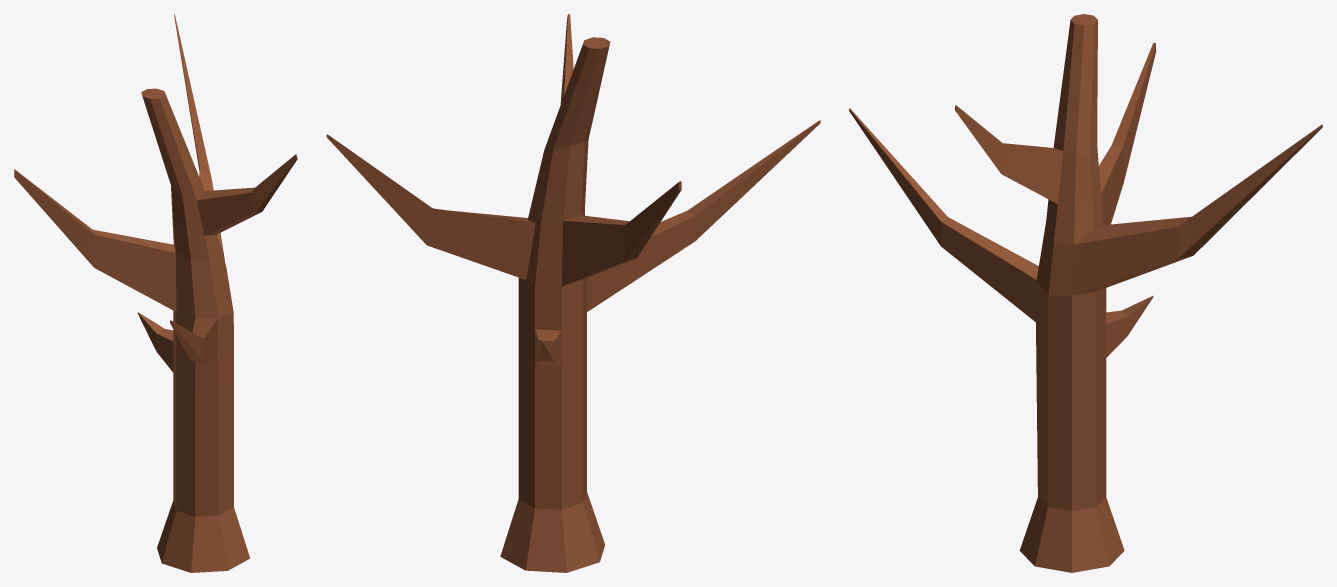
File: Tree2.fbx
3 views of the same model, side by side, from view 1: azimuth 30°, elevation 25°; view 2: azimuth 150°, elevation 25°; view 3: azimuth 270°, elevation 25° (orthographic). The views are drawn at different scales.
Parts seen in each view (by area): view 1: Tree2; view 2: Tree2; view 3: Tree2.
Part boxes in pixels (bbox=[...]): Tree2: bbox=[14, 14, 297, 572]; Tree2: bbox=[326, 14, 820, 572]; Tree2: bbox=[849, 14, 1322, 572].
Bounding box in the file's own units: 201 × 376 × 319.
